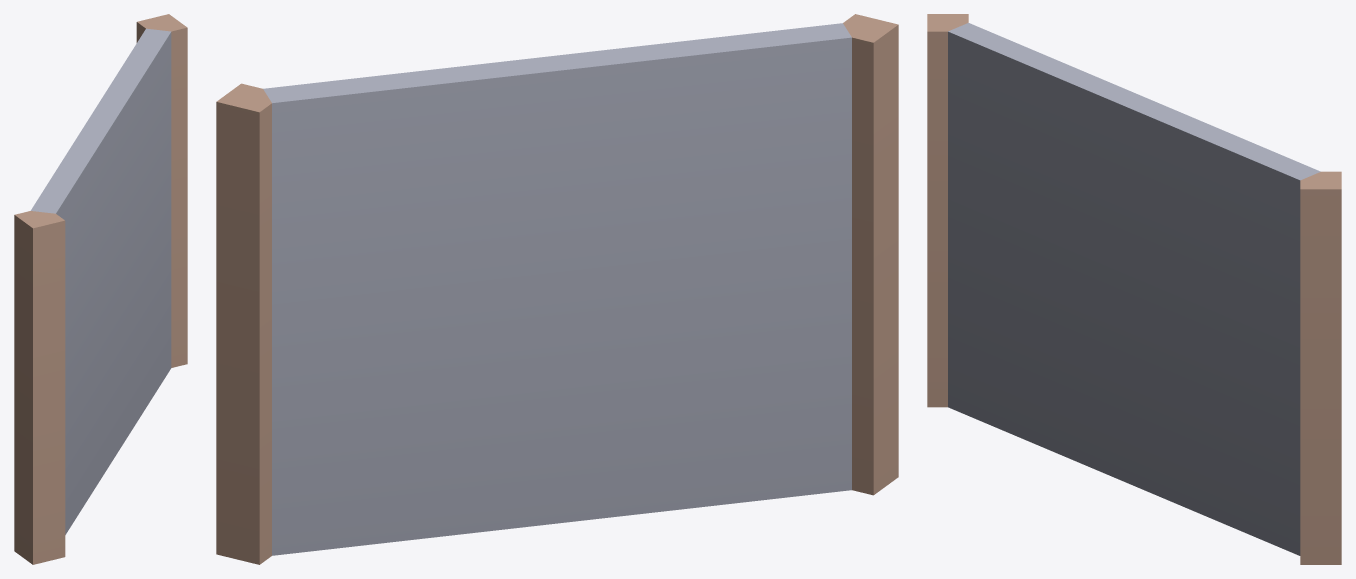
File: wall-diagonal.glb
The picture shows the model from 3 angles, left to right: view 1: azimuth 30°, elevation 25°; view 2: azimuth 150°, elevation 25°; view 3: azimuth 270°, elevation 25°; orthographic projection. The views are drawn at different scales.
Visible parts, largest first — view 1: wall-diagonal; view 2: wall-diagonal; view 3: wall-diagonal.
Part boxes in pixels (box(x1,y1,x2,y2)): wall-diagonal: box(14, 14, 187, 564); wall-diagonal: box(216, 14, 898, 564); wall-diagonal: box(927, 14, 1341, 564).
Bounding box in the file's own units: 1 × 1 × 1.
